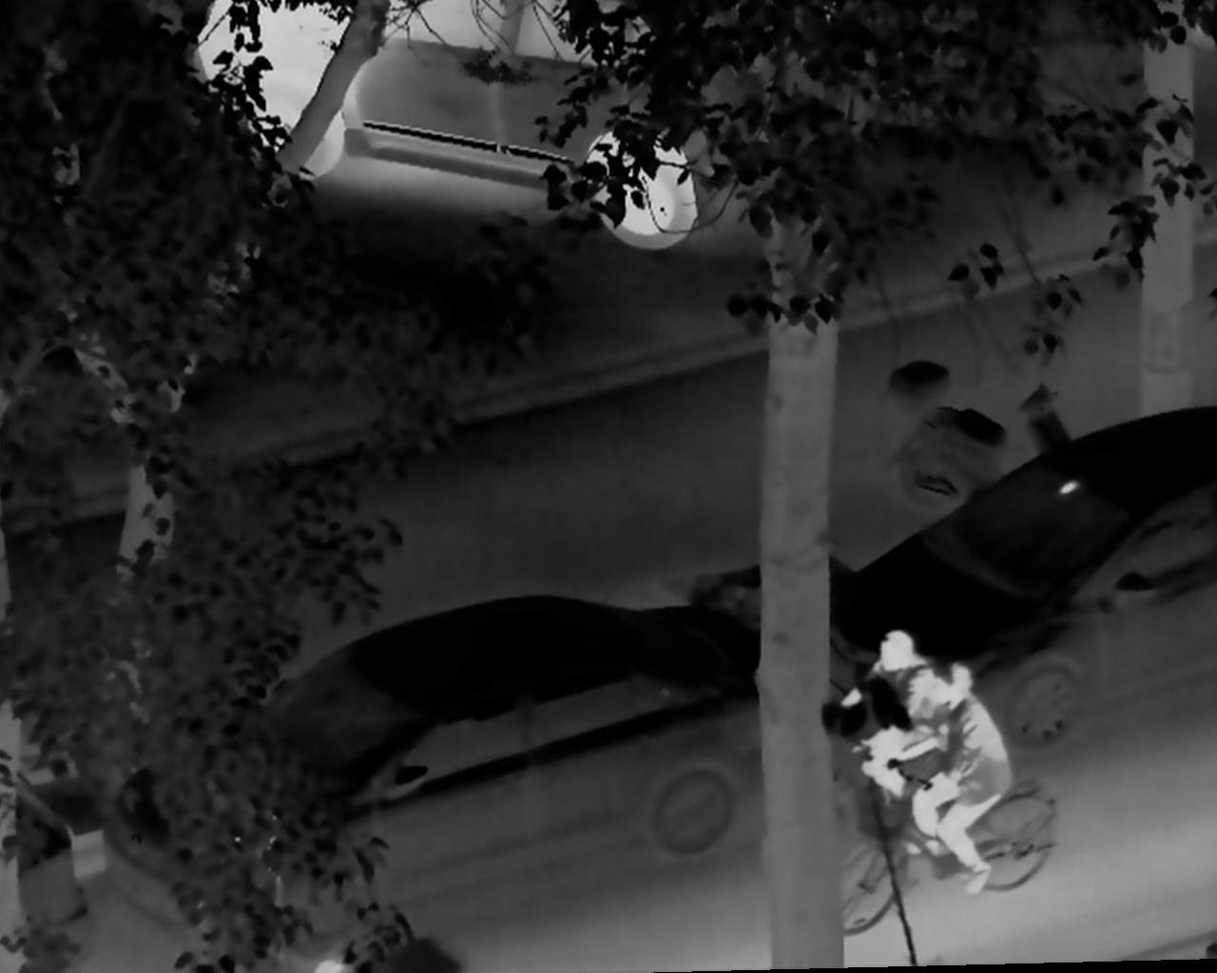person: (906, 664, 1017, 905), (835, 619, 941, 810)
